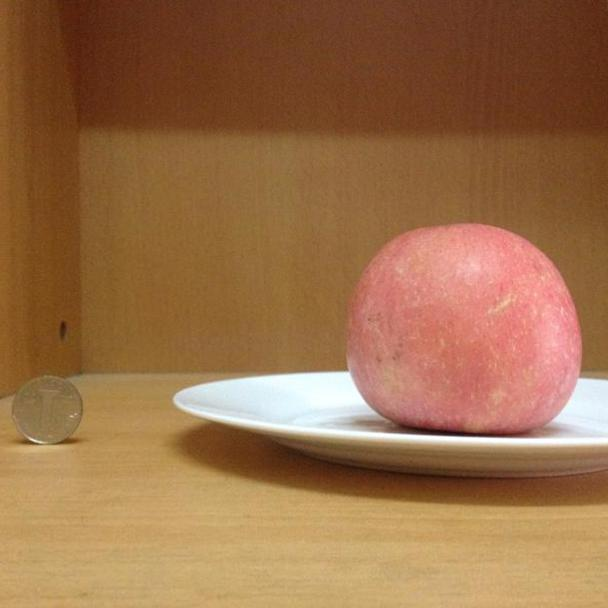apple: (344, 220, 590, 434)
